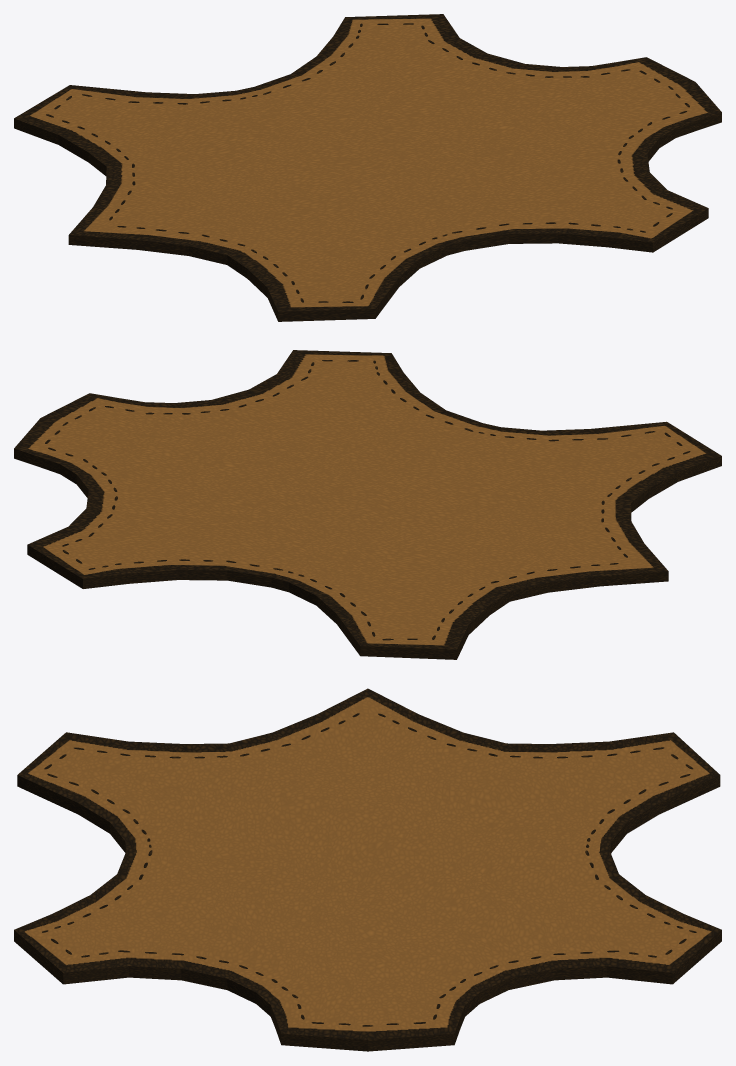
The model's file is Leather.glb.
3 renders of one model, top to bottom at view 1: azimuth 30°, elevation 25°; view 2: azimuth 150°, elevation 25°; view 3: azimuth 270°, elevation 25°, orthographic. The views are drawn at different scales.
Parts seen in each view (by area): view 1: Leather; view 2: Leather; view 3: Leather.
Boxes of the visible parts, box(x1,y1,x2,y2) form: Leather: box(14, 14, 721, 321); Leather: box(14, 350, 721, 659); Leather: box(14, 688, 721, 1051).
Size of the model in its own units: 1.37 by 0.0215 by 1.16.
1 material, 1 textured.
